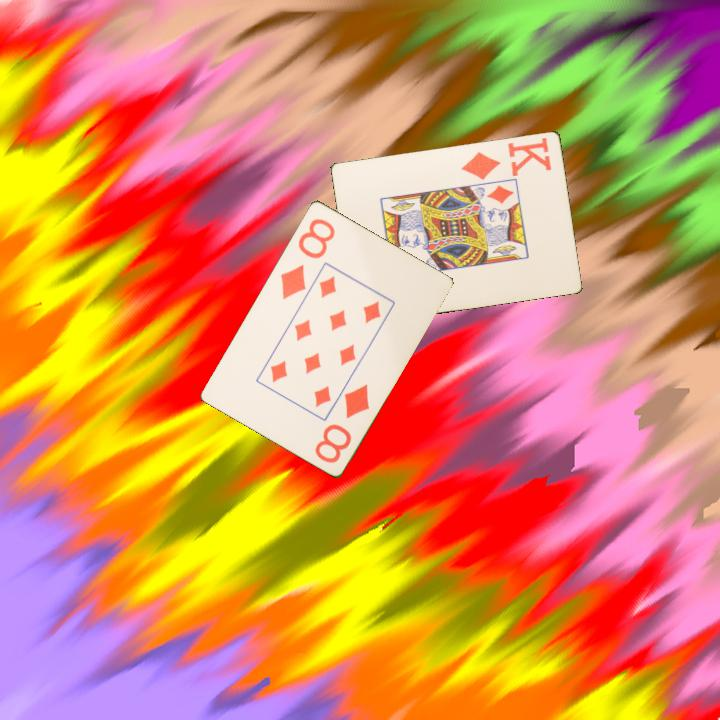8d: (277, 214, 338, 302), (311, 380, 372, 466)
Kd: (458, 134, 554, 182)
